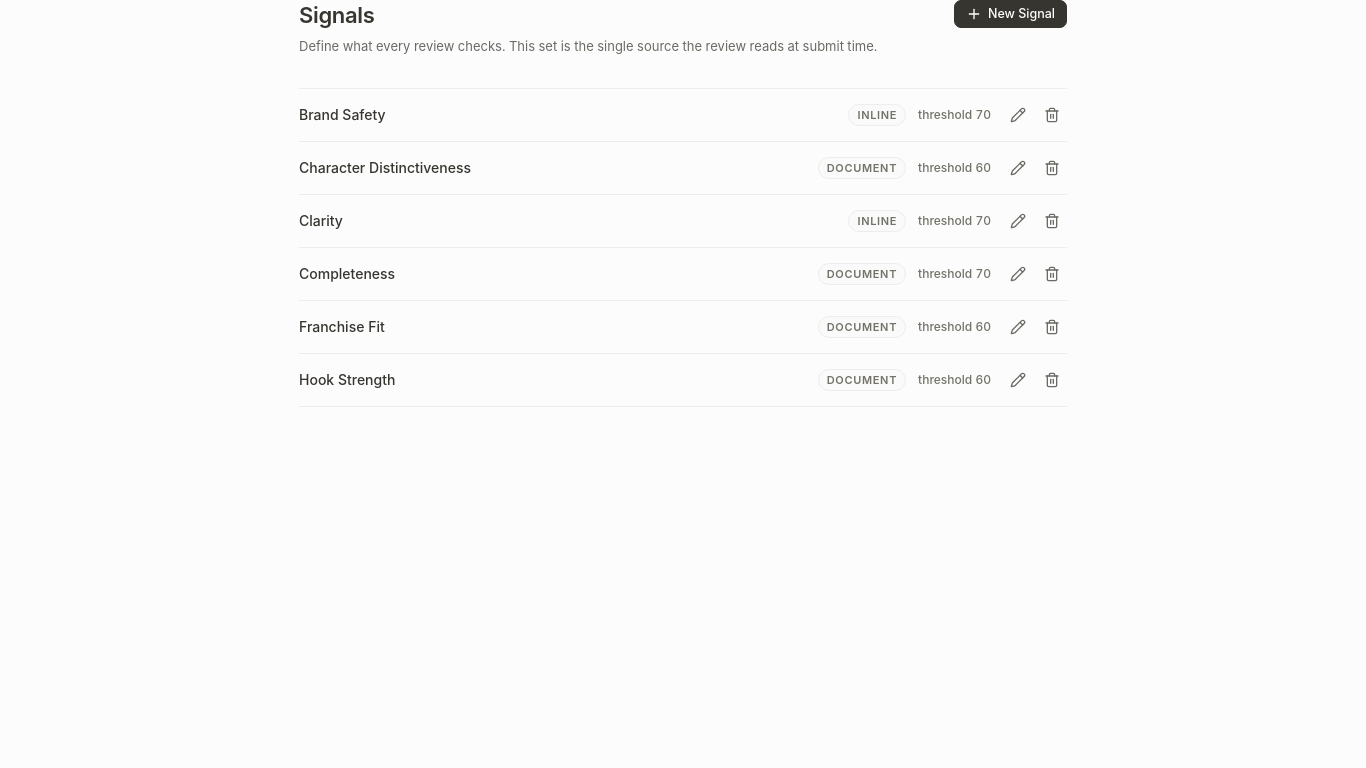
Test: SignalsAdminPage › edits an existing signal and updates it in StorageRepository
The width and height of the screenshot is (1366, 768).
Check: the list named "Signals" is shown, box [299,88,1067,407]
Click the button named "Edit Clarity" at x=1018, y=221, box [1003,207,1033,235]
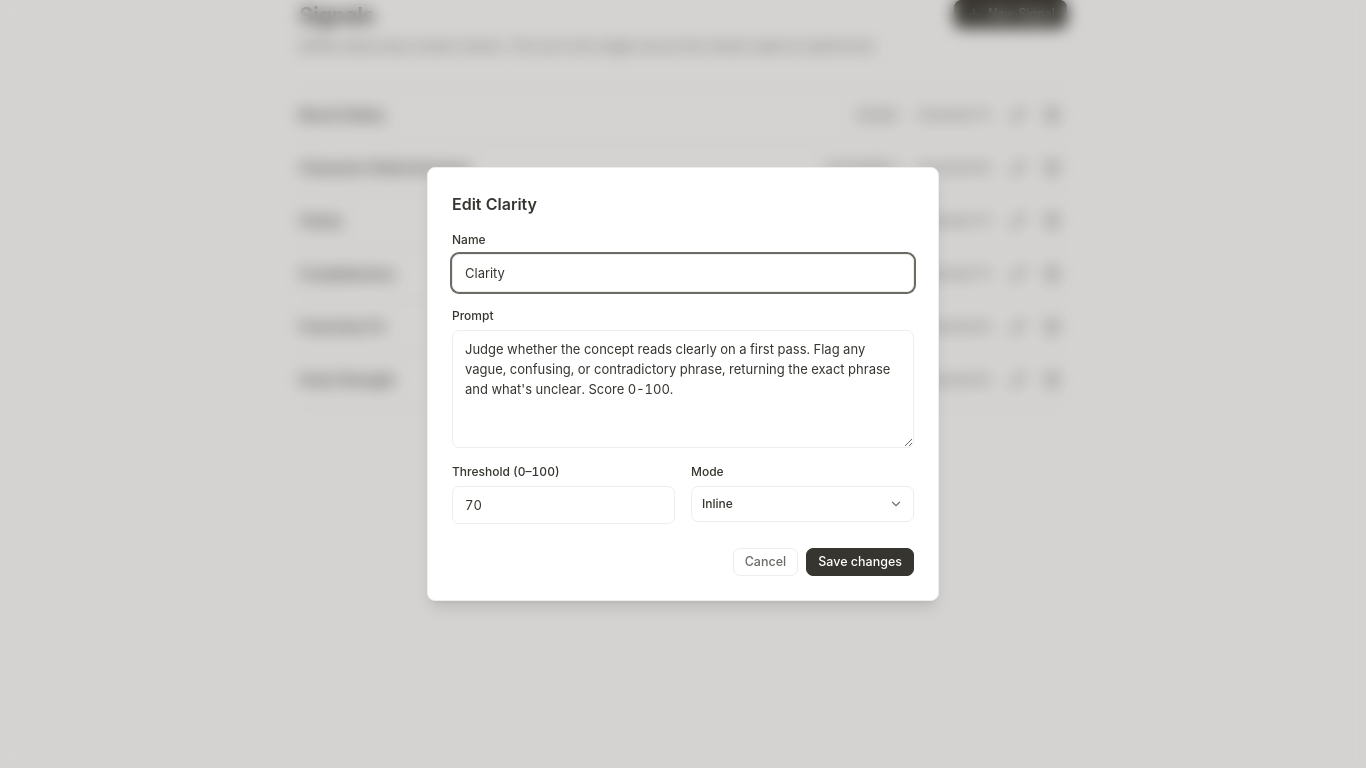
Type "Clarity & Flow" into the field labelled "Name" at x=683, y=273, box [452,254,914,292]
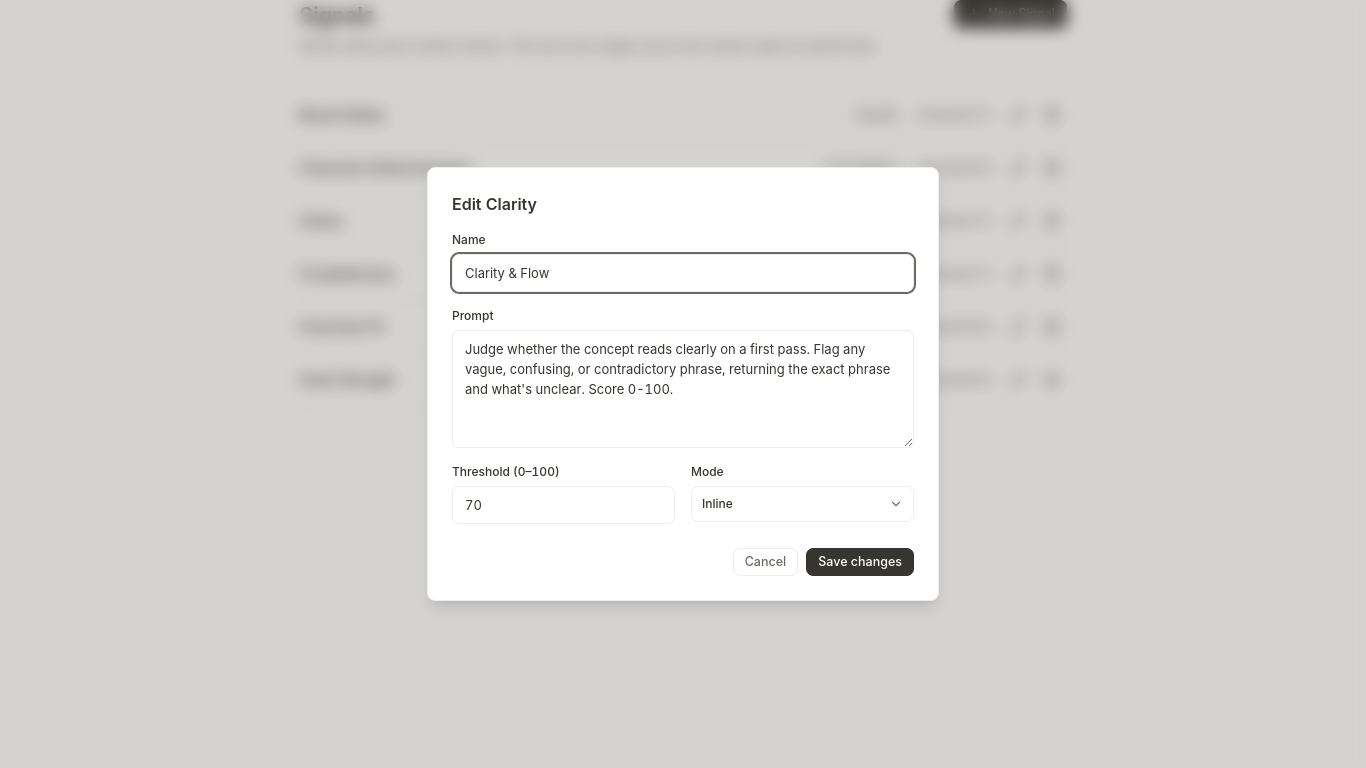
Click the button "Save changes" at x=860, y=562, box [806,548,914,576]
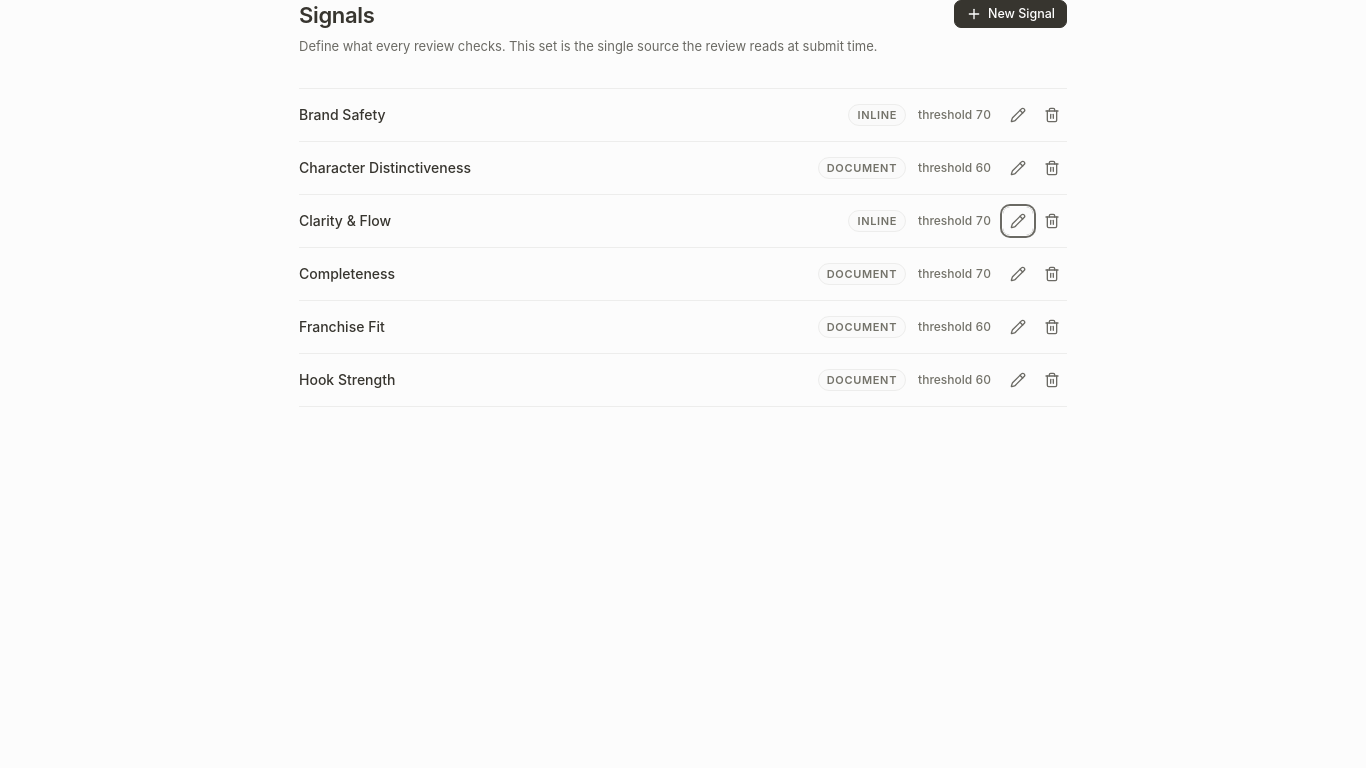
Check: the text "Clarity & Flow" is shown, box [299,212,391,229]
